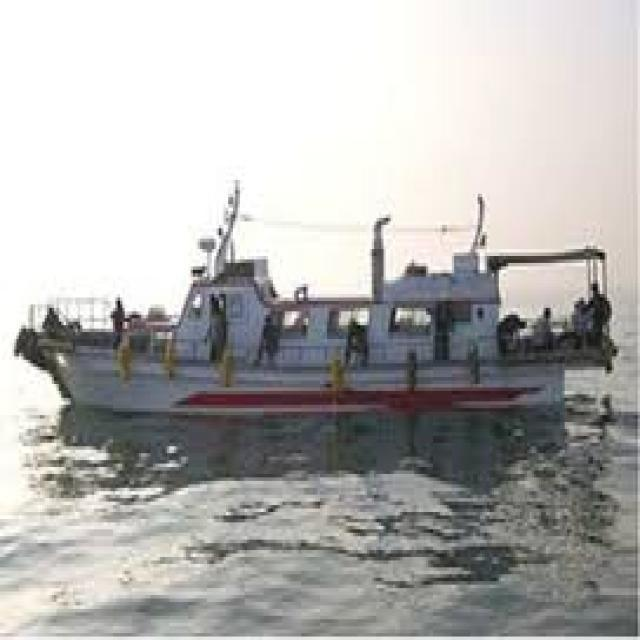Ship: (6, 181, 627, 437)
